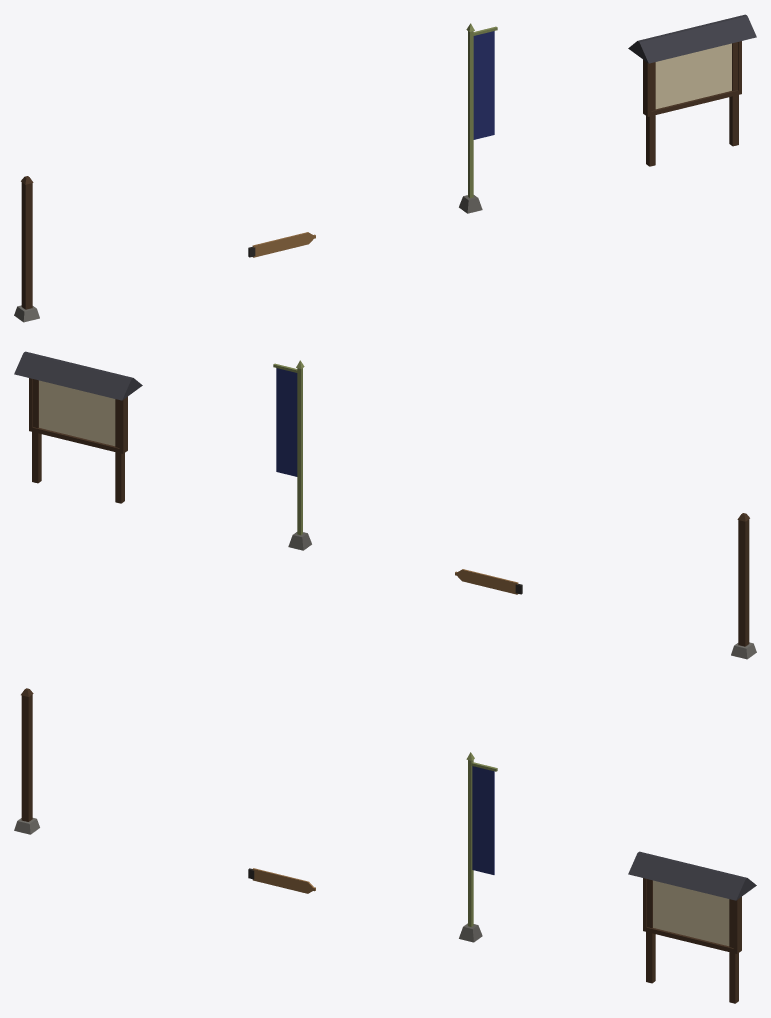
Rendered from japan_kit18_wayfinding.fbx.
3 renders of one model, top to bottom at view 1: azimuth 30°, elevation 25°; view 2: azimuth 150°, elevation 25°; view 3: azimuth 330°, elevation 25°, orthographic.
Visible parts, largest first — view 1: Board_Face, Board_Roof, Board_Wood, Nobori_Cloth, Post_Wood, Nobori_Pole, Finger_Board; view 2: Board_Face, Board_Roof, Board_Wood, Nobori_Cloth, Post_Wood, Nobori_Pole, Finger_Board; view 3: Board_Face, Board_Roof, Board_Wood, Nobori_Cloth, Post_Wood, Nobori_Pole, Finger_Board.
Boxes of the visible parts, x1,y1,x2,y2 form: Board_Face: [655, 43, 731, 109]; Board_Roof: [628, 14, 756, 63]; Board_Wood: [643, 41, 741, 166]; Nobori_Cloth: [473, 31, 494, 139]; Post_Wood: [21, 176, 33, 309]; Nobori_Pole: [466, 23, 497, 198]; Finger_Board: [252, 232, 313, 257]; Board_Face: [39, 380, 115, 446]; Board_Roof: [14, 351, 142, 400]; Board_Wood: [29, 378, 127, 503]; Nobori_Cloth: [276, 368, 297, 476]; Post_Wood: [737, 513, 749, 646]; Nobori_Pole: [273, 360, 304, 535]; Finger_Board: [457, 569, 518, 594]; Board_Face: [653, 880, 729, 946]; Board_Roof: [628, 851, 756, 900]; Board_Wood: [643, 878, 741, 1003]; Nobori_Cloth: [472, 766, 494, 874]; Post_Wood: [21, 688, 33, 821]; Nobori_Pole: [466, 752, 497, 926]; Finger_Board: [252, 868, 313, 893].
Bounding box in the file's own units: 52.5 × 12.8 × 2.6.
